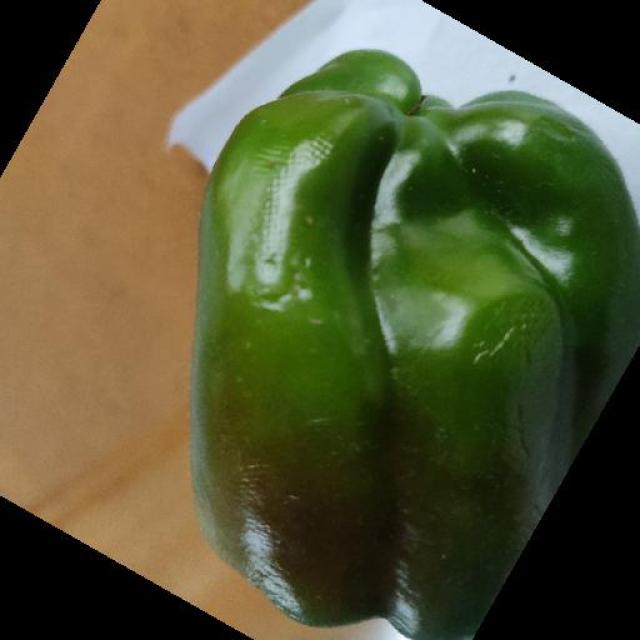Stale_Capsicum: (213, 81, 570, 592)
